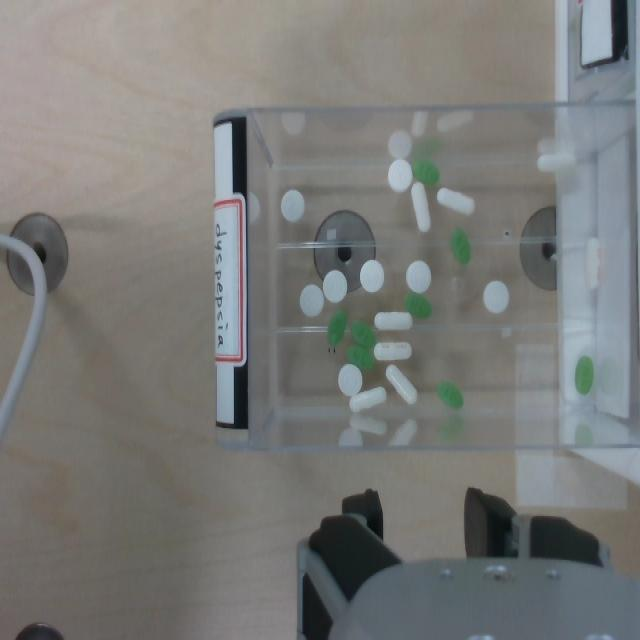magmil_tab: (483, 280, 509, 313), (406, 260, 431, 293), (323, 269, 347, 303), (388, 159, 412, 192), (280, 189, 304, 221), (300, 284, 324, 316), (338, 364, 362, 396), (360, 260, 383, 292)
medilacsenteric_tab: (386, 364, 417, 404), (437, 187, 474, 215), (411, 181, 430, 232), (349, 387, 386, 412), (585, 237, 601, 289), (537, 151, 575, 171), (374, 341, 411, 361), (374, 312, 412, 331)
nexilen_tab: (327, 309, 347, 348), (574, 355, 593, 395), (437, 381, 463, 409), (412, 159, 439, 185), (347, 344, 373, 371), (351, 320, 375, 349), (451, 228, 470, 264), (405, 292, 431, 317)
